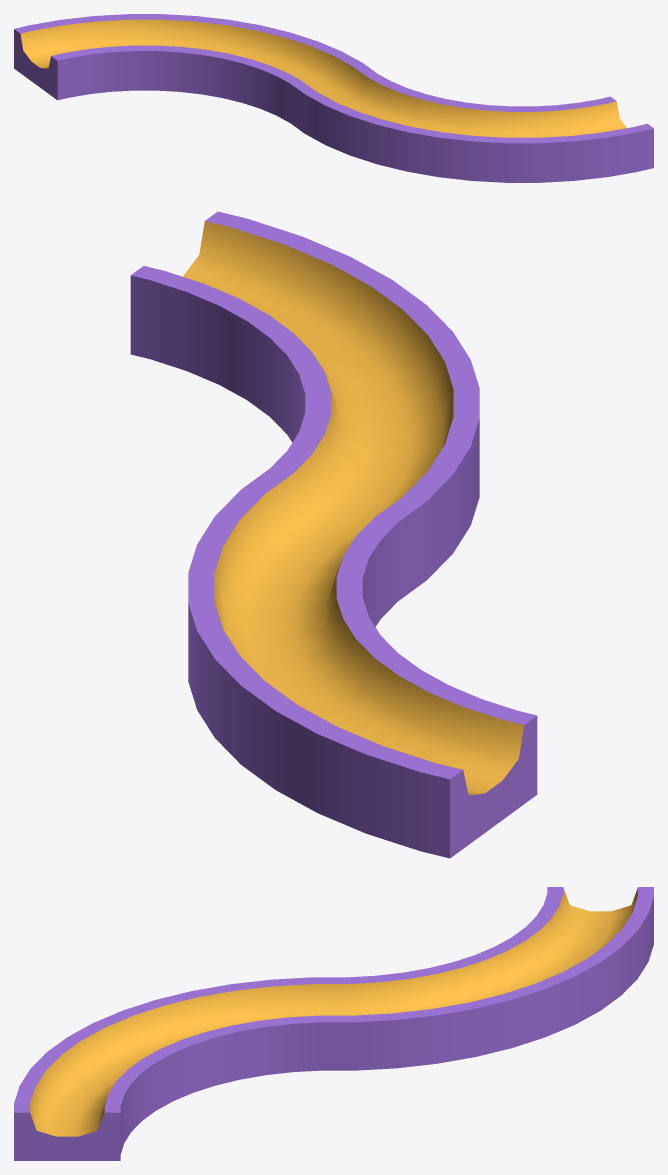
Rendered from s-curve-right-large-col.glb.
The picture shows the model from 3 angles, top to bottom: view 1: azimuth 30°, elevation 25°; view 2: azimuth 150°, elevation 25°; view 3: azimuth 270°, elevation 25°; orthographic projection. The views are drawn at different scales.
Visible parts, largest first — view 1: s-curve-right-large-col; view 2: s-curve-right-large-col; view 3: s-curve-right-large-col.
Part boxes in pixels (x1,y1,x2,y2): s-curve-right-large-col: (14,14,653,182); s-curve-right-large-col: (130,211,537,858); s-curve-right-large-col: (14,887,653,1160).
Size of the model in its own units: 5 by 0.5 by 6.
Materials: 1 (1 with a texture image).
